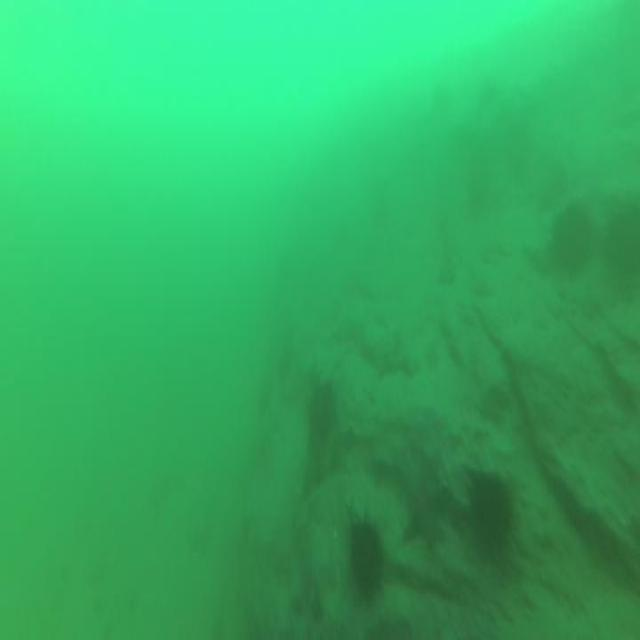echinus: (459, 455, 521, 567), (342, 502, 391, 607), (304, 379, 338, 457)
starfish: (401, 460, 449, 559)
